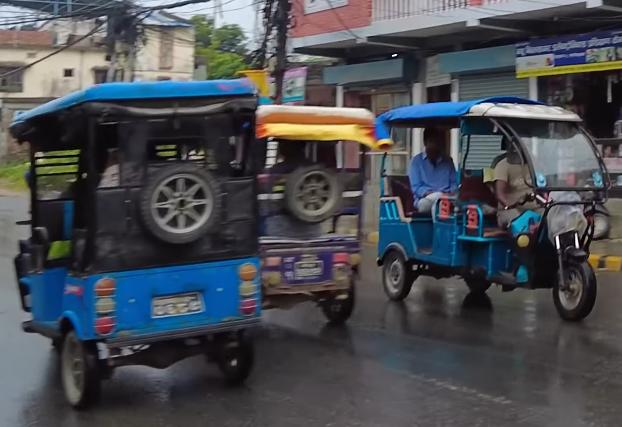e-rickshaw: (17, 74, 263, 398), (374, 93, 609, 321), (255, 101, 363, 328)
